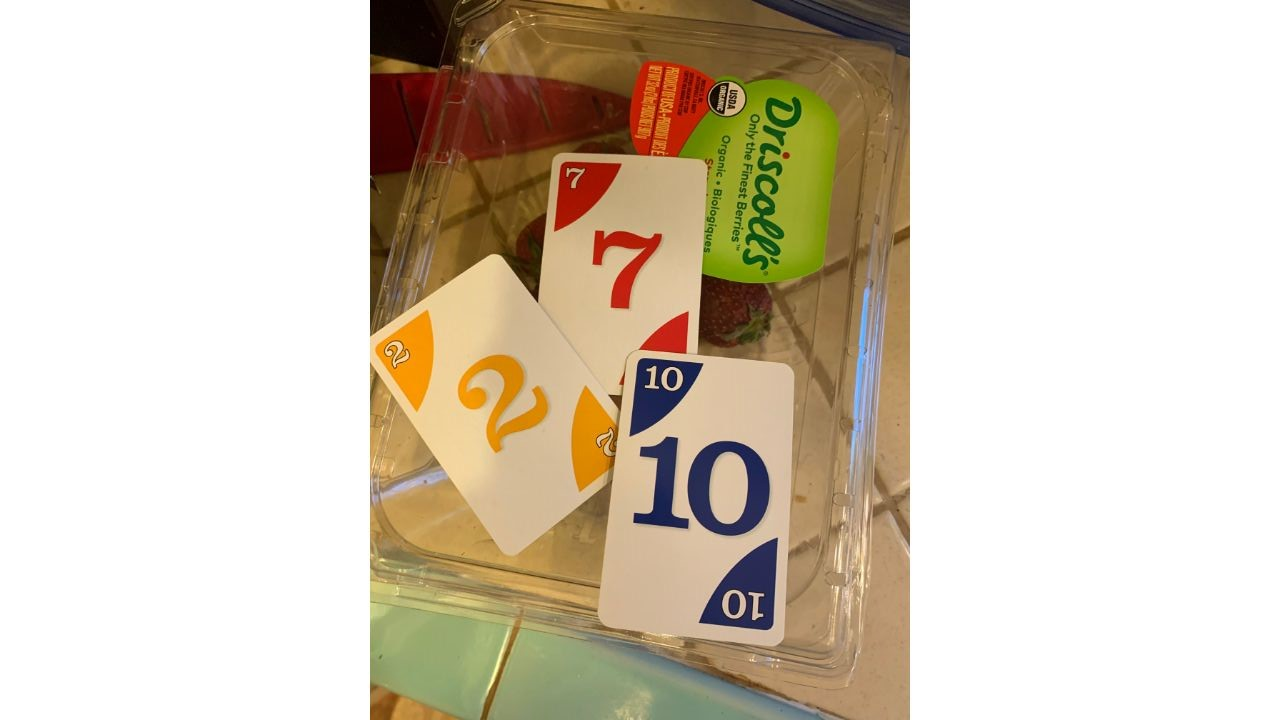seven: (531, 151, 710, 409)
ten: (585, 348, 798, 650)
two: (371, 251, 654, 567)
